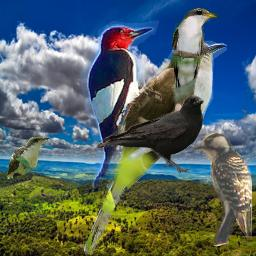Crow: (96, 95, 204, 173)
Cuckoo: (82, 40, 227, 255), (171, 7, 219, 127), (6, 136, 49, 180)
Woodpecker: (73, 15, 162, 188), (191, 132, 252, 246)
